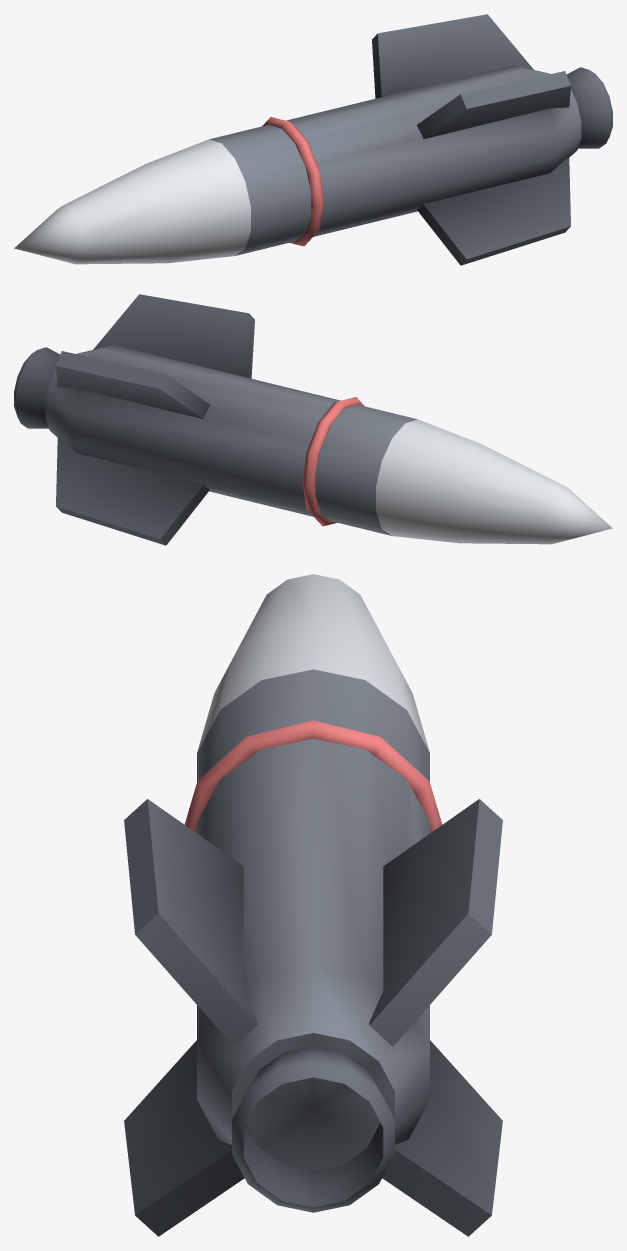
Rendered from ArmorPiercingRocket.fbx.
The picture shows the model from 3 angles, top to bottom: view 1: azimuth 30°, elevation 25°; view 2: azimuth 150°, elevation 25°; view 3: azimuth 270°, elevation 25°; orthographic projection. The views are drawn at different scales.
Parts seen in each view (by area): view 1: rocket_ap; view 2: rocket_ap; view 3: rocket_ap.
Boxes of the visible parts, <box> form: rocket_ap: <box>14,14,612,265</box>; rocket_ap: <box>14,294,612,545</box>; rocket_ap: <box>124,574,502,1236</box>.
Bounding box in the file's own units: 1.01 × 0.285 × 0.285.
